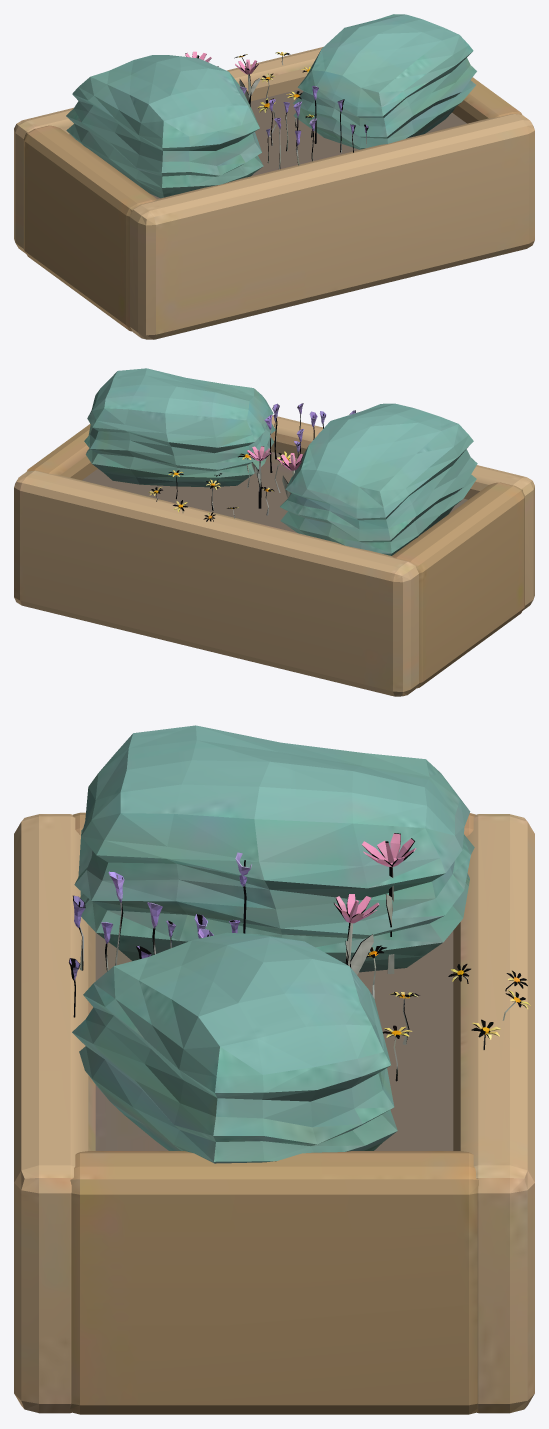
The model's file is plaza_planter_filled.glb.
3 views of the same model, one above another, from view 1: azimuth 30°, elevation 25°; view 2: azimuth 150°, elevation 25°; view 3: azimuth 270°, elevation 25° (orthographic). The views are drawn at different scales.
Visible parts, largest first — view 1: plaza_planter_filled; view 2: plaza_planter_filled; view 3: plaza_planter_filled.
Boxes of the visible parts, <box> form: plaza_planter_filled: <box>14,14,534,339</box>; plaza_planter_filled: <box>14,368,534,696</box>; plaza_planter_filled: <box>14,725,534,1414</box>.
Size of the model in its own units: 1.76 by 0.85 by 1.04.
1 material, 1 textured.
